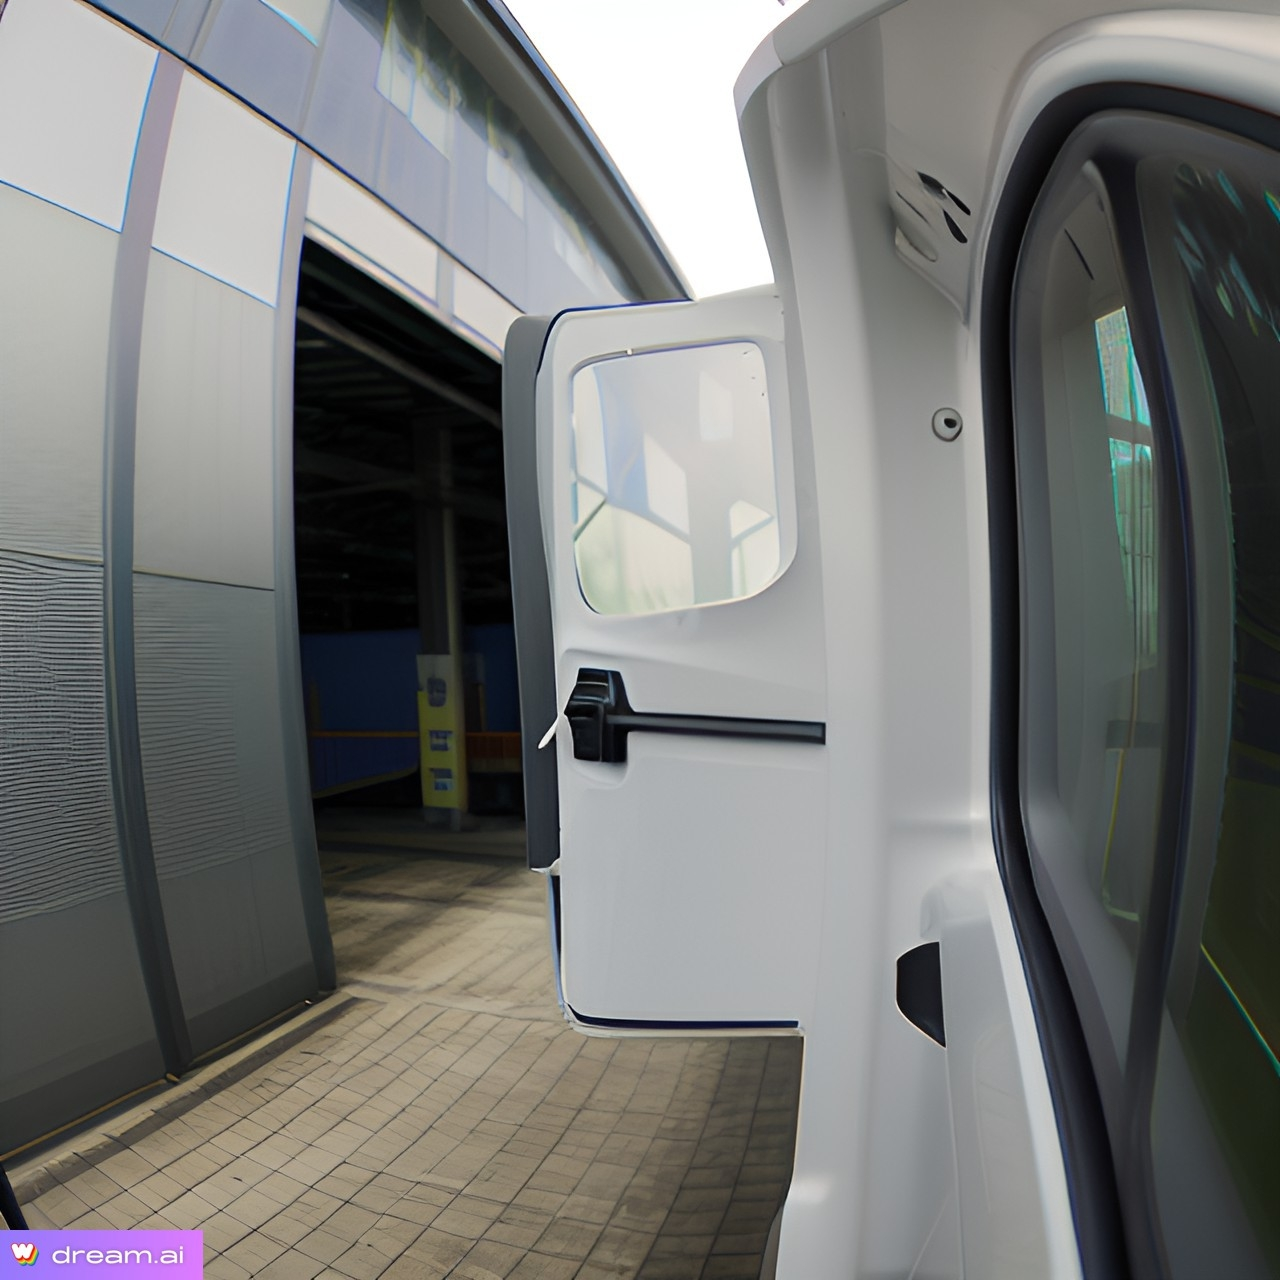door_front: (499, 298, 851, 1061)
